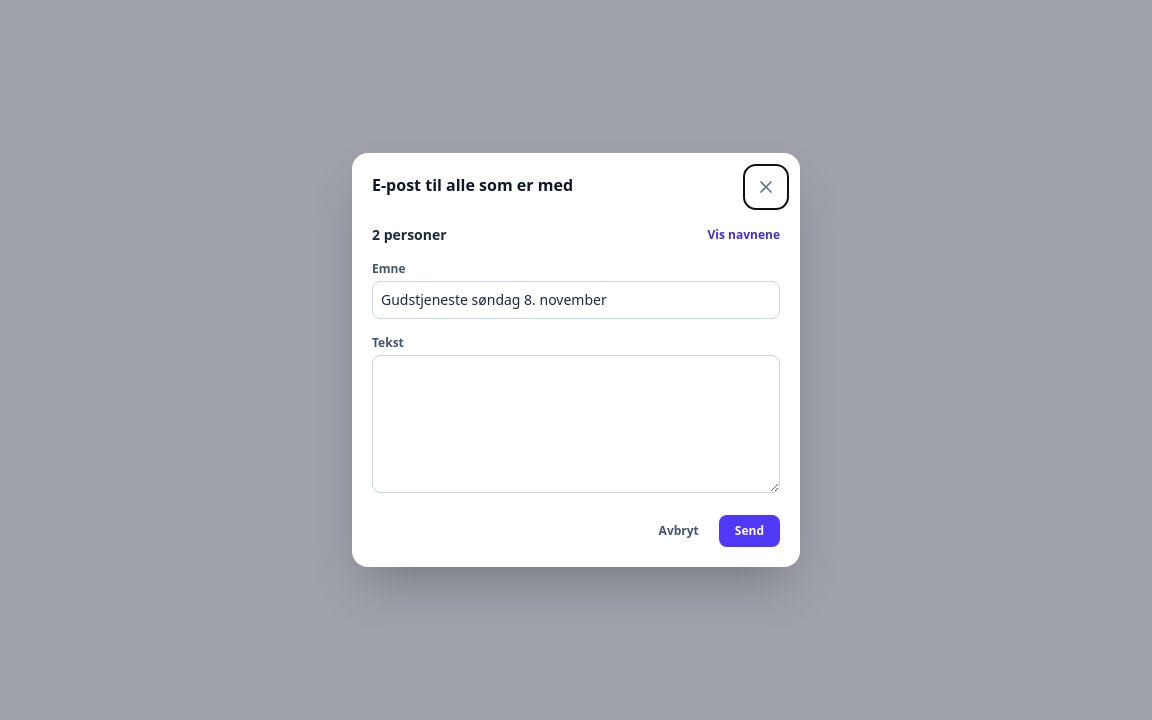
it: E-post til alle som er med › teller de bekreftede og spurte, én gang hver, og nevner dem uten e-post
Check: the text "2 personer" is shown, box left=372, top=225, right=447, bottom=245
Click the button "Vis navnene" at (744, 235), box left=708, top=227, right=780, bottom=243
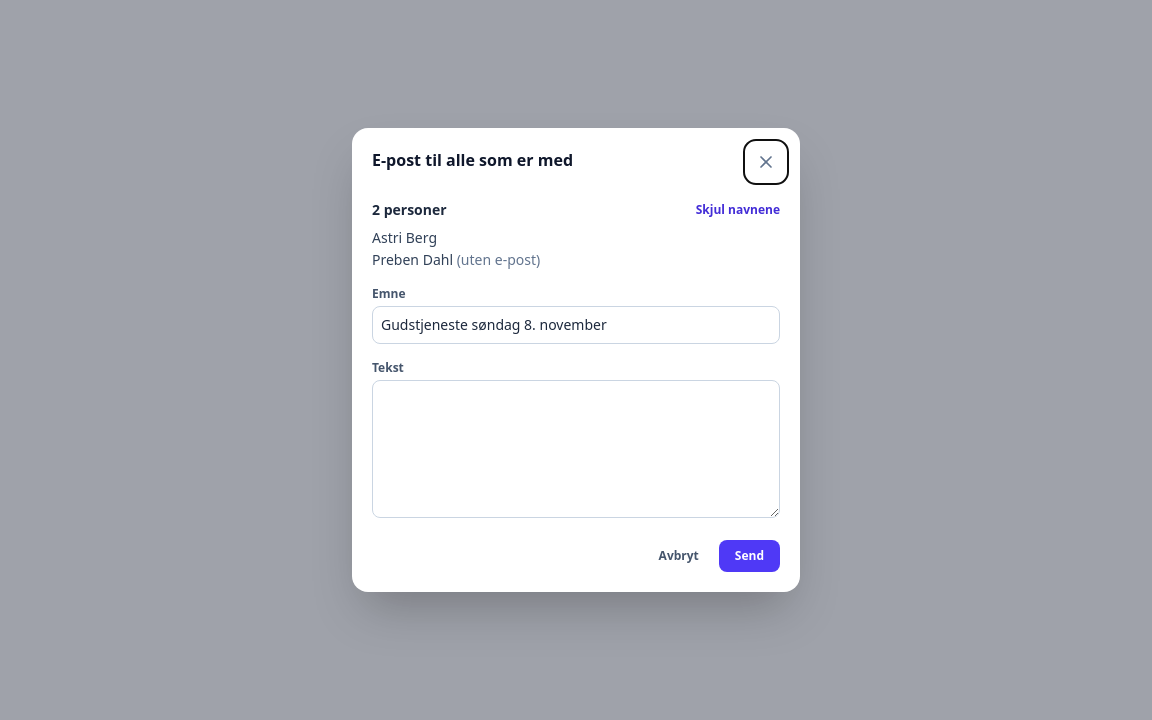
Check: the list with id "gathering-mail-people" shows "Astri Berg", box left=372, top=228, right=437, bottom=247
Check: the list with id "gathering-mail-people" shows "Preben Dahl (uten e-post)", box left=372, top=228, right=540, bottom=269
